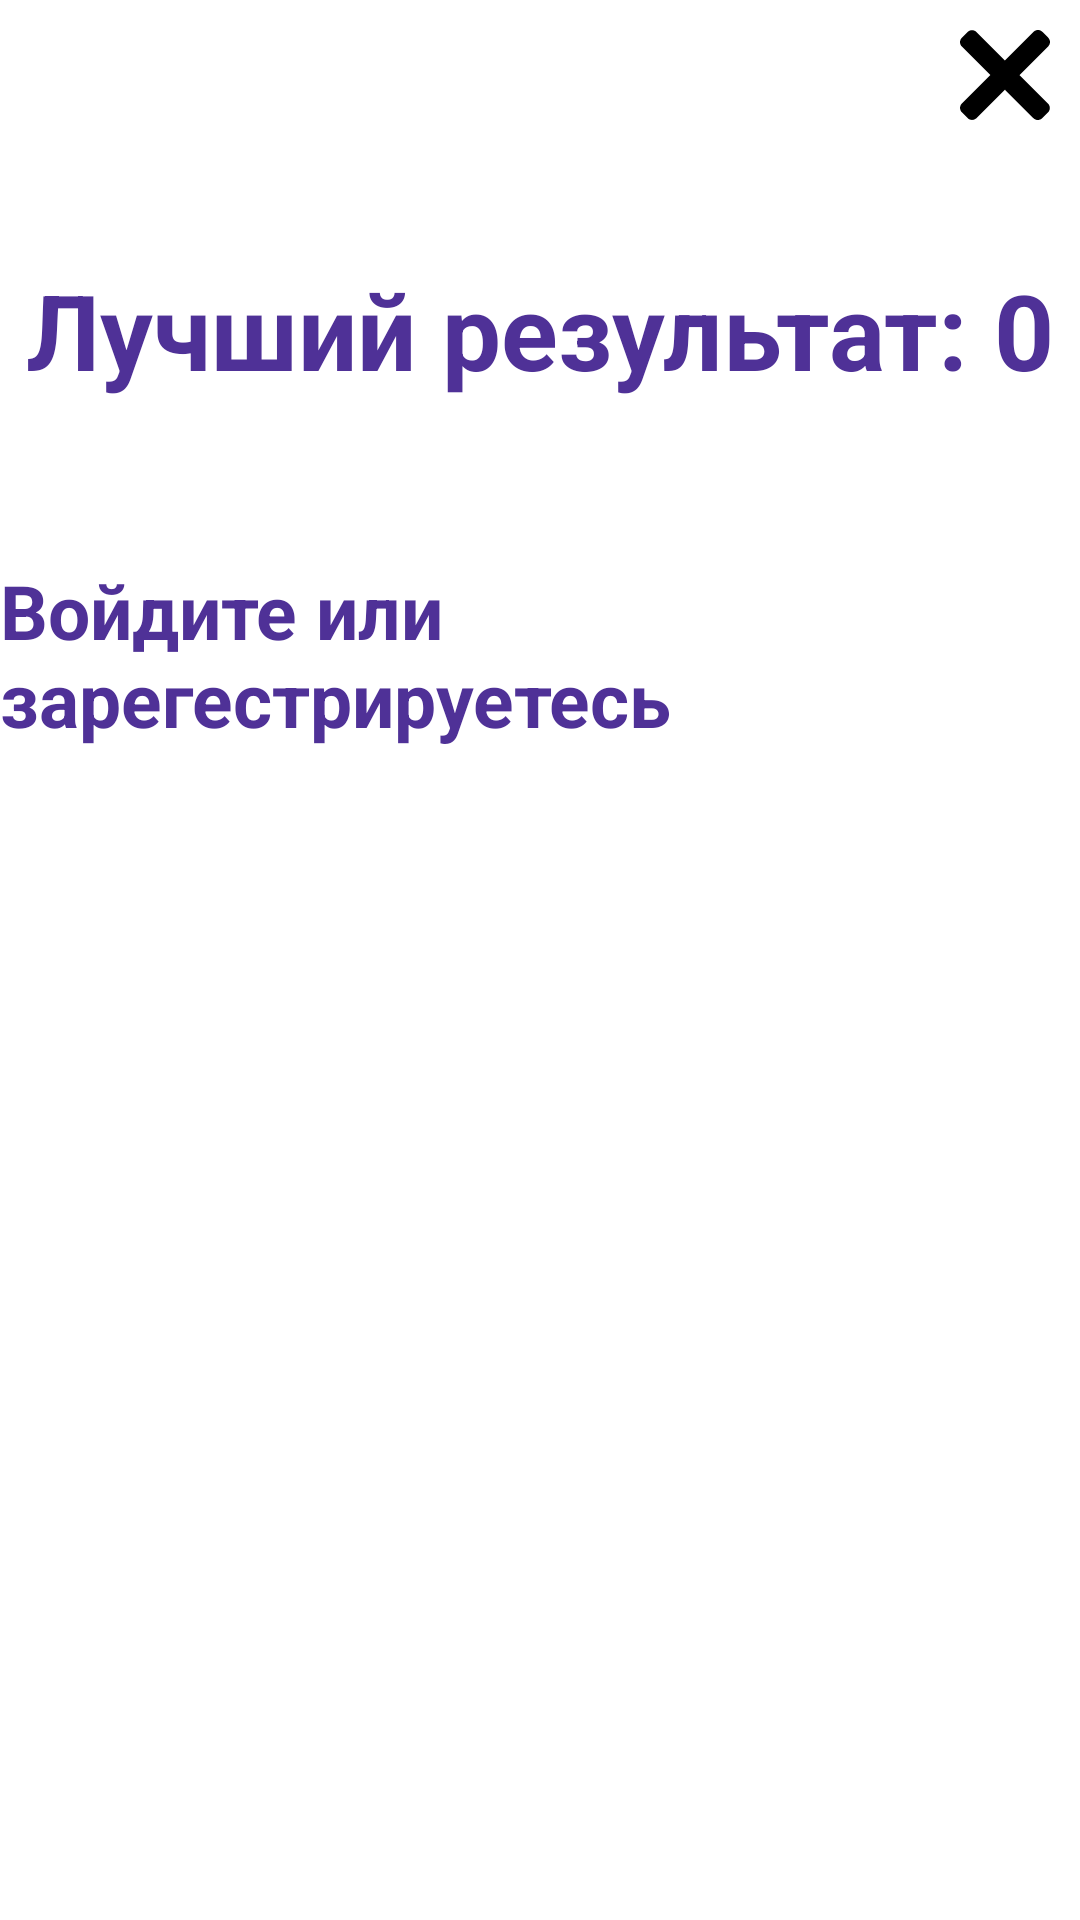

Locate icon controls on the screen. Image size 1080px x 1920px, boxes as (x1, y1, x2, y2).
refuse: (960, 30, 1050, 120)
